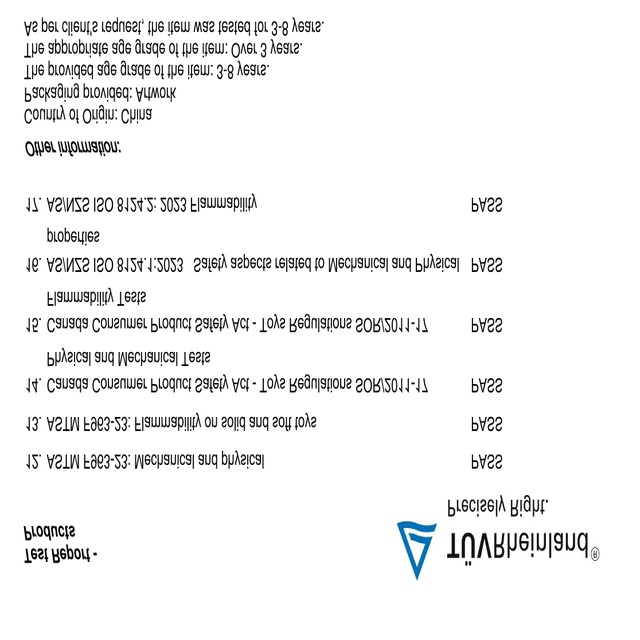tuv_rheinland: (392, 518, 607, 580)
